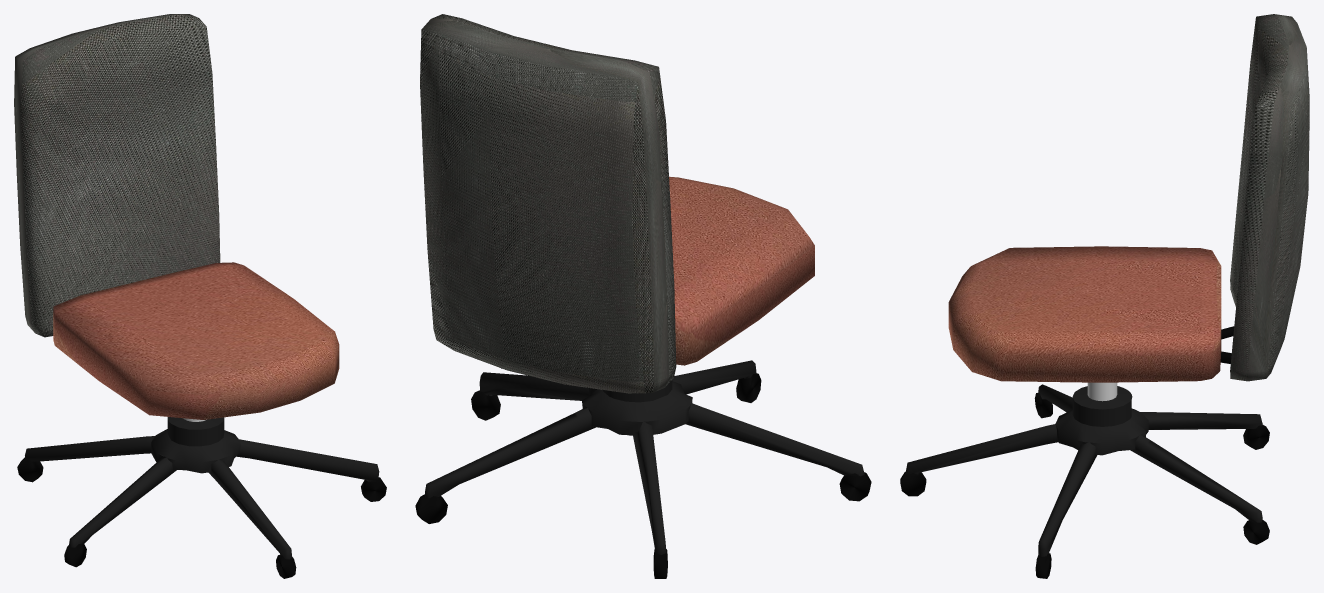
File: cadeira  de laboratorionova.fbx
3 views of the same model, side by side, from view 1: azimuth 30°, elevation 25°; view 2: azimuth 150°, elevation 25°; view 3: azimuth 270°, elevation 25° (orthographic). The views are drawn at different scales.
Visible parts, largest first — view 1: cadeira parte de baixo; view 2: cadeira parte de baixo; view 3: cadeira parte de baixo.
Part boxes in pixels (x1=…): cadeira parte de baixo: x1=14, y1=14, x2=386, y2=578; cadeira parte de baixo: x1=415, y1=14, x2=871, y2=578; cadeira parte de baixo: x1=900, y1=14, x2=1309, y2=578.
Size of the model in its own units: 0.4891 by 0.6173 by 0.5141.
Materials: 8 (2 with a texture image).
